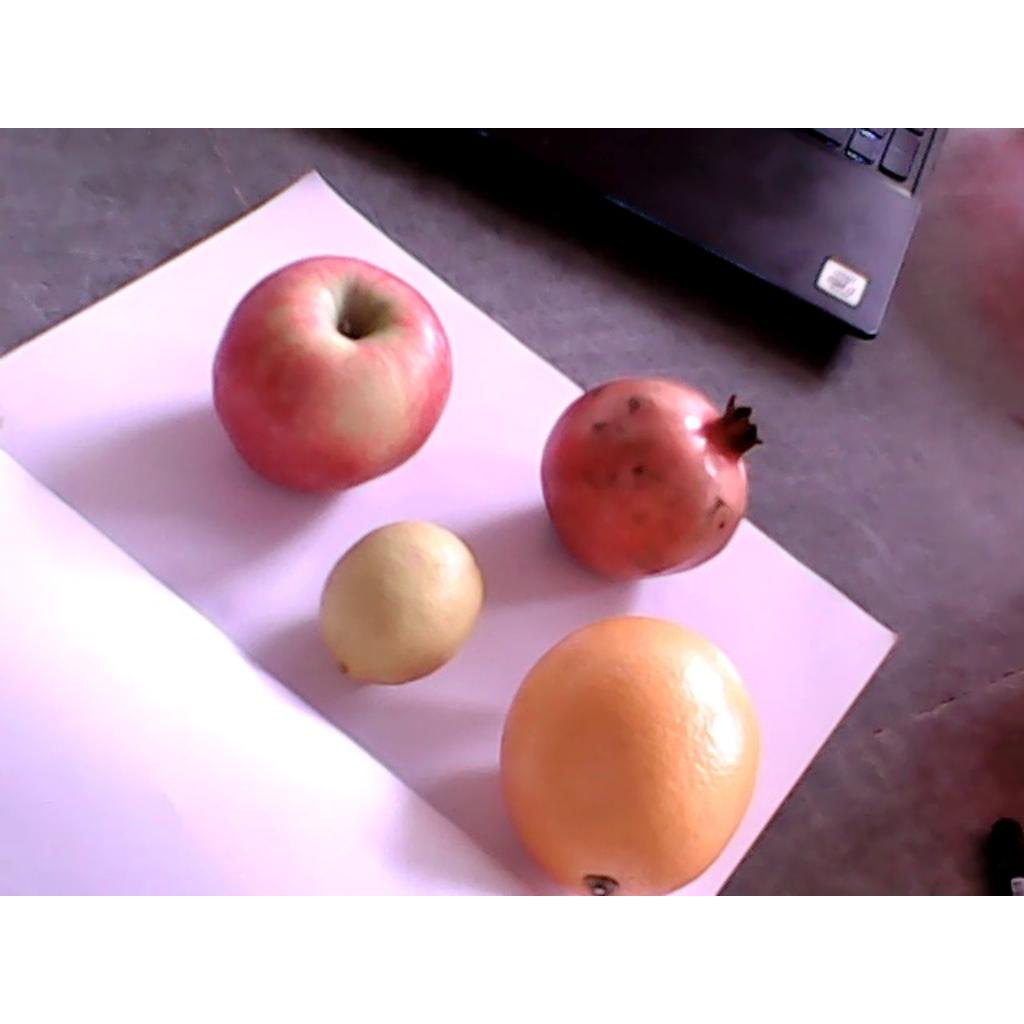apple: (213, 254, 454, 495)
lemon: (319, 519, 485, 685)
orange: (497, 613, 759, 894)
pomegranate: (544, 375, 765, 579)
